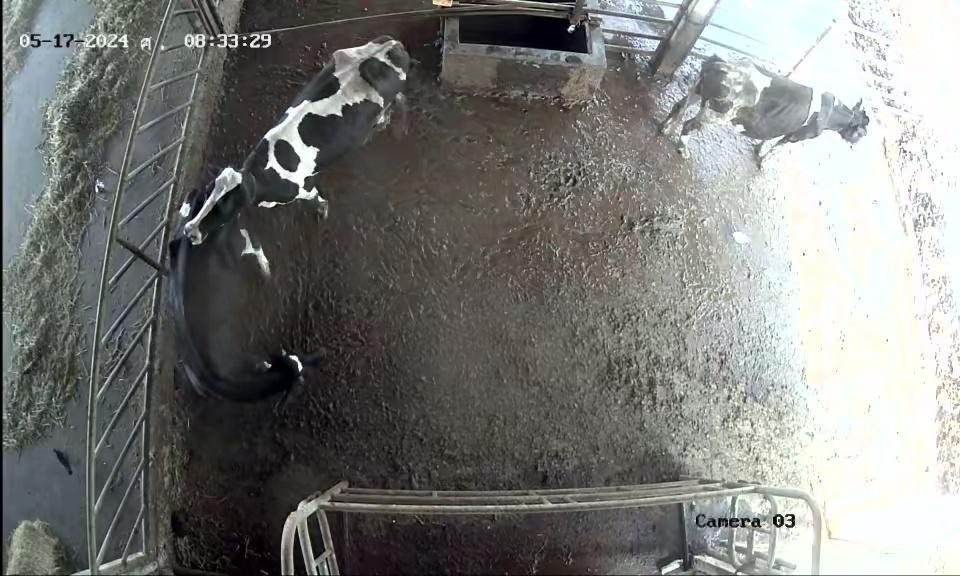lay: (165, 231, 332, 419)
stand: (185, 31, 412, 268), (650, 33, 882, 186)
